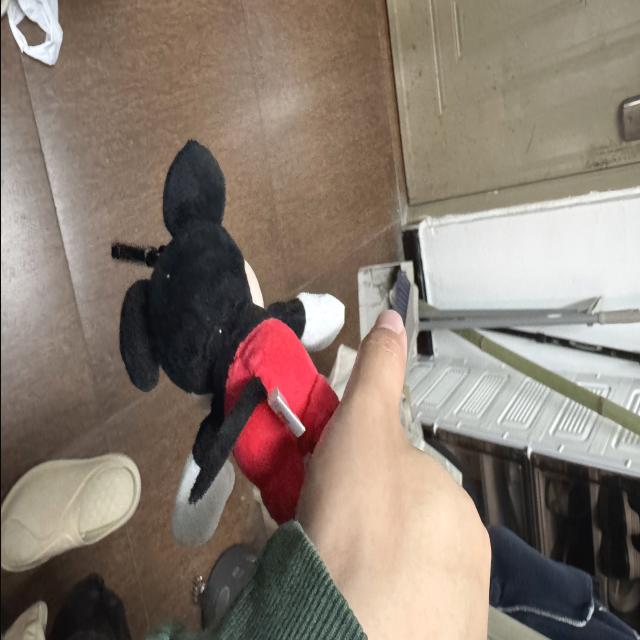mickey: (112, 141, 342, 522)
